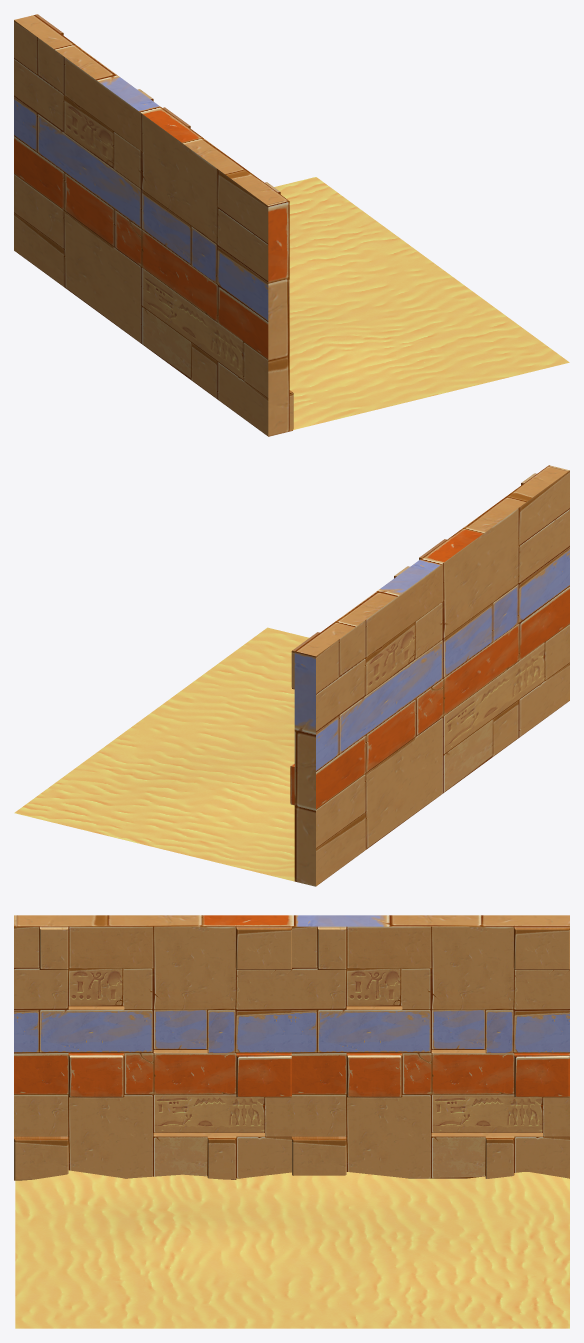
The model's file is demo_model_high_res.fbx.
The picture shows the model from 3 angles, top to bottom: view 1: azimuth 30°, elevation 25°; view 2: azimuth 150°, elevation 25°; view 3: azimuth 270°, elevation 25°; orthographic projection. The views are drawn at different scales.
Visible parts, largest first — view 1: demo_wall, demo_sand; view 2: demo_wall, demo_sand; view 3: demo_wall, demo_sand.
Part boxes in pixels (x1=…): demo_wall: x1=14, y1=14, x2=293, y2=436; demo_sand: x1=274, y1=177, x2=569, y2=429; demo_wall: x1=290, y1=465, x2=569, y2=886; demo_sand: x1=14, y1=627, x2=309, y2=881; demo_wall: x1=14, y1=915, x2=569, y2=1180; demo_sand: x1=15, y1=1170, x2=569, y2=1328.
Size of the model in its own units: 6.86 by 5 by 10.
2 materials, 2 textured.
